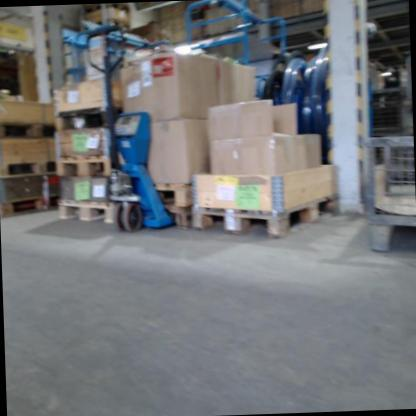pallet: (189, 190, 340, 245), (54, 102, 124, 133), (56, 195, 117, 227), (0, 191, 61, 222), (53, 154, 111, 183), (0, 116, 57, 142), (0, 157, 59, 179), (152, 181, 192, 208), (85, 3, 128, 16)
pallet_truck: (80, 19, 178, 236)
stillage: (370, 135, 416, 254)
